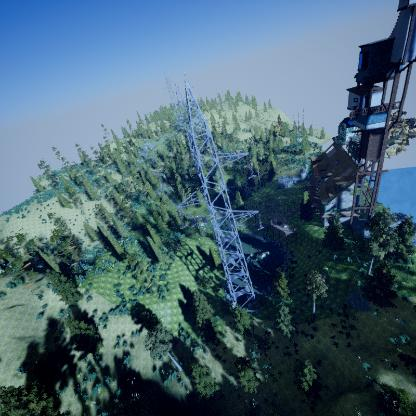tower: (178, 78, 260, 312)
